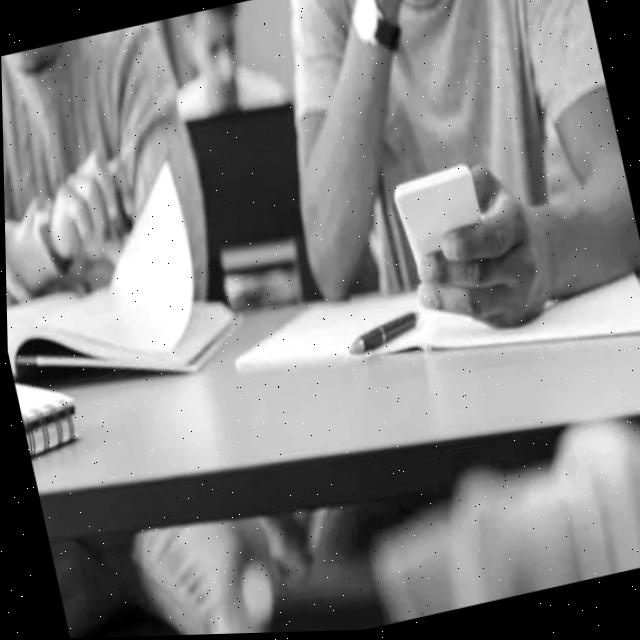phone: (382, 158, 496, 285)
